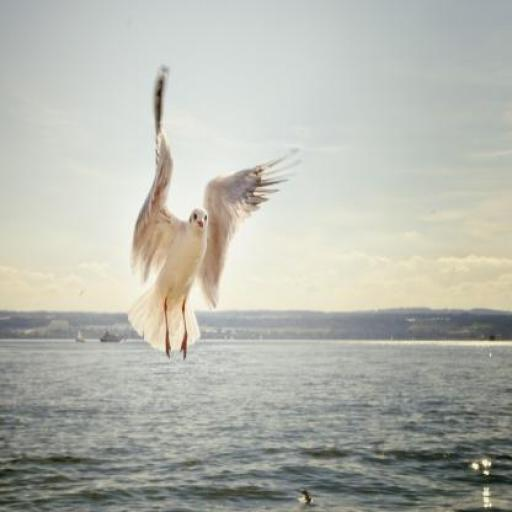bird: (126, 63, 301, 359)
